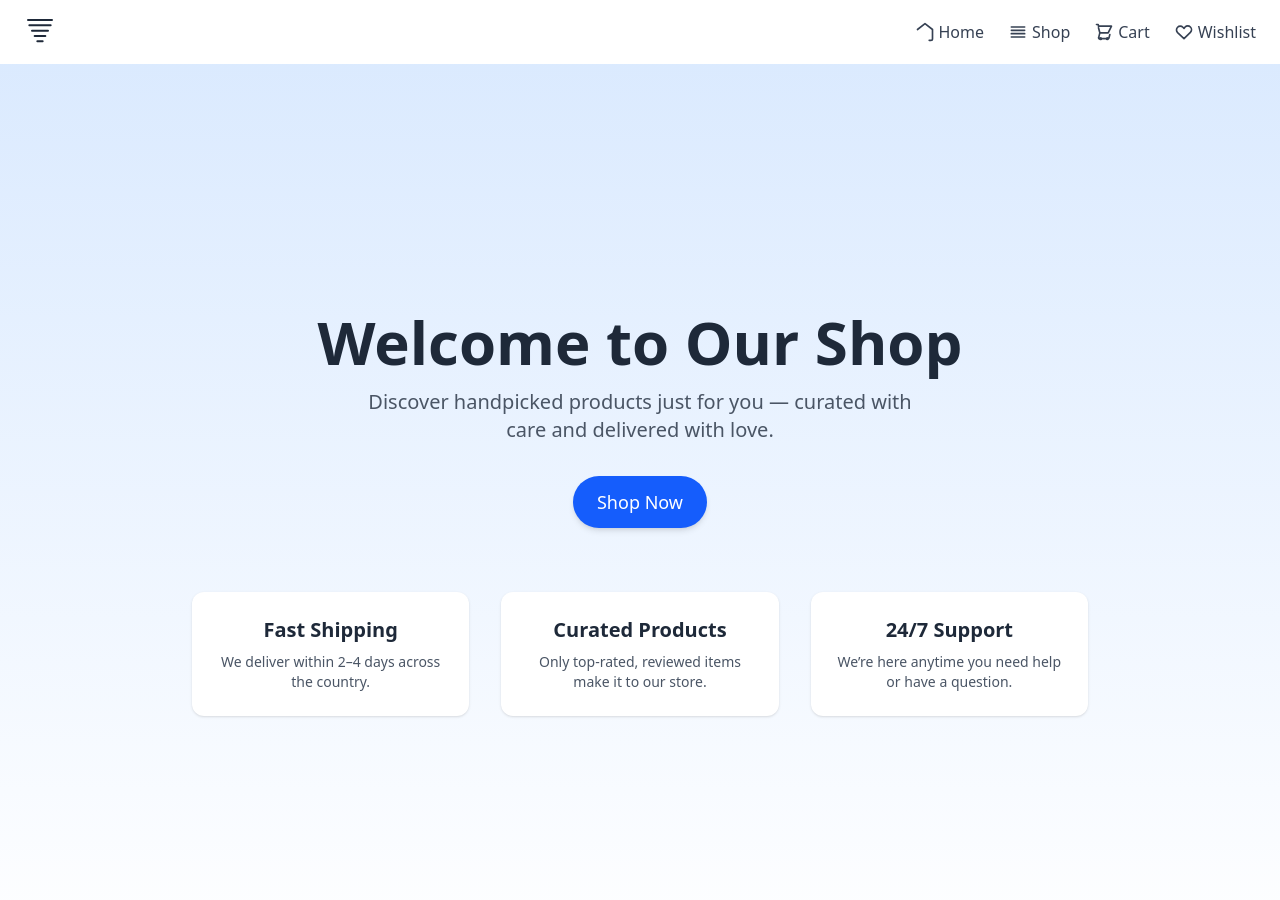
Test: Router Integration Tests › navigates to the shop page and displays products
The width and height of the screenshot is (1280, 900).
Use a more specific selector to distinguish between the two "shop" links
Click the link "Shop" at x=1039, y=32, box [1008,20,1070,44]
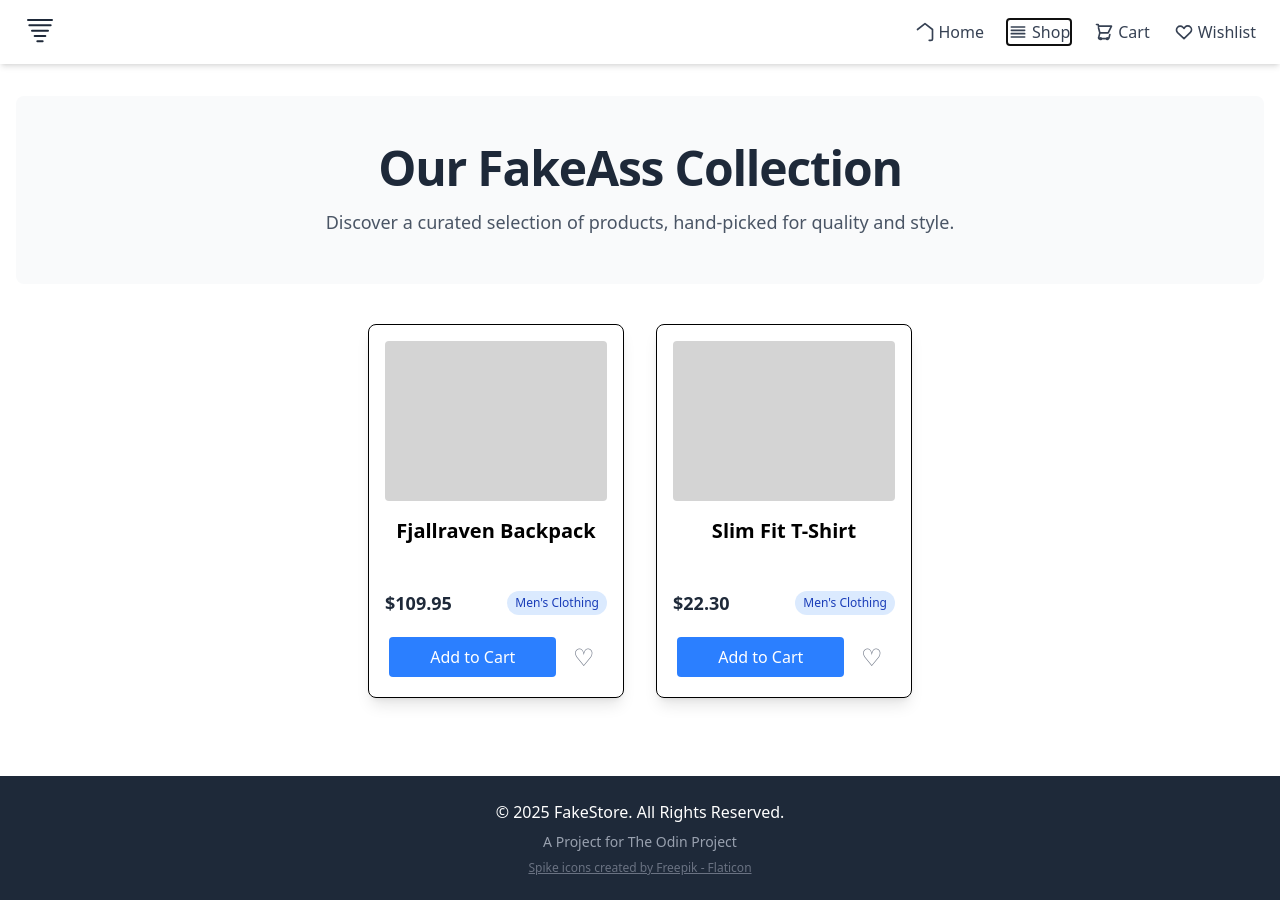
Expected: the heading "Our FakeAss Collection" is shown, [378,135,902,200]
Expected: the heading "Fjallraven Backpack" is shown, [396,517,596,544]
